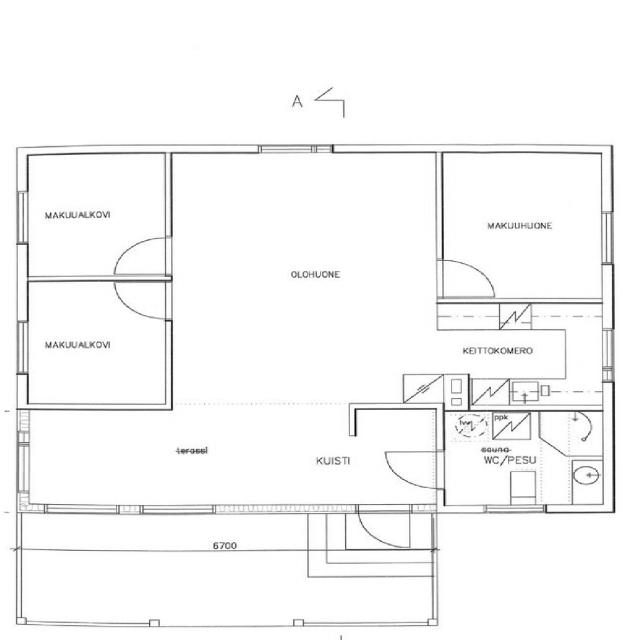door: (359, 505, 409, 549), (114, 282, 172, 318), (114, 238, 172, 274), (435, 260, 493, 296), (385, 452, 443, 488)
